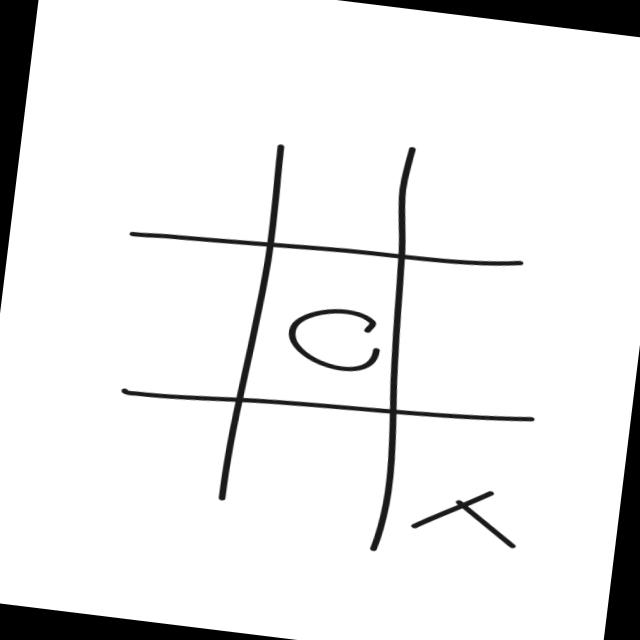O: (272, 285, 386, 388)
X: (405, 458, 524, 576)
grid: (72, 97, 573, 580)
